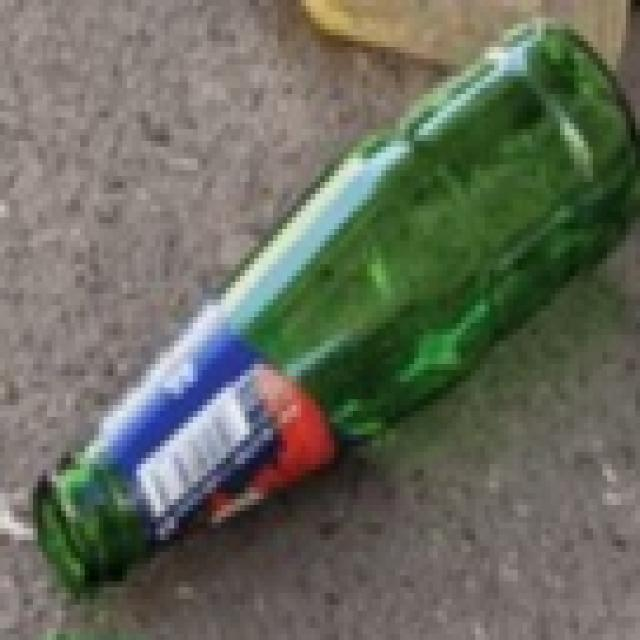glass bottle: (36, 0, 640, 588)
